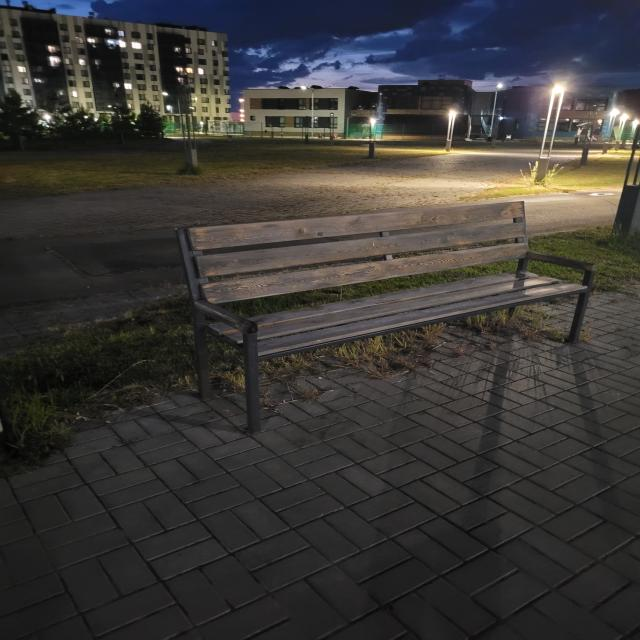Bench: (178, 201, 598, 433)
